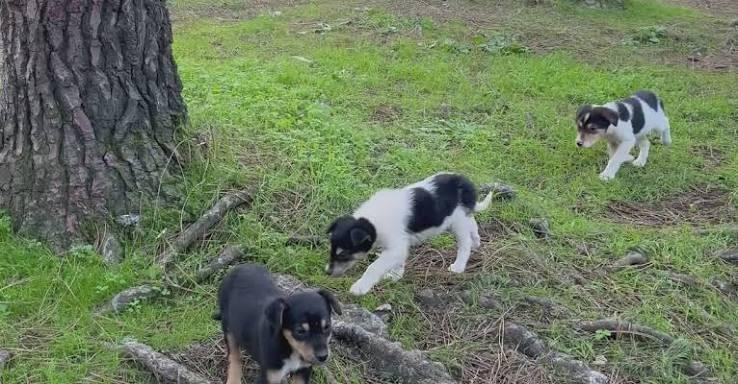puppy-dog: (325, 173, 495, 296), (210, 262, 342, 384), (575, 89, 672, 182)
